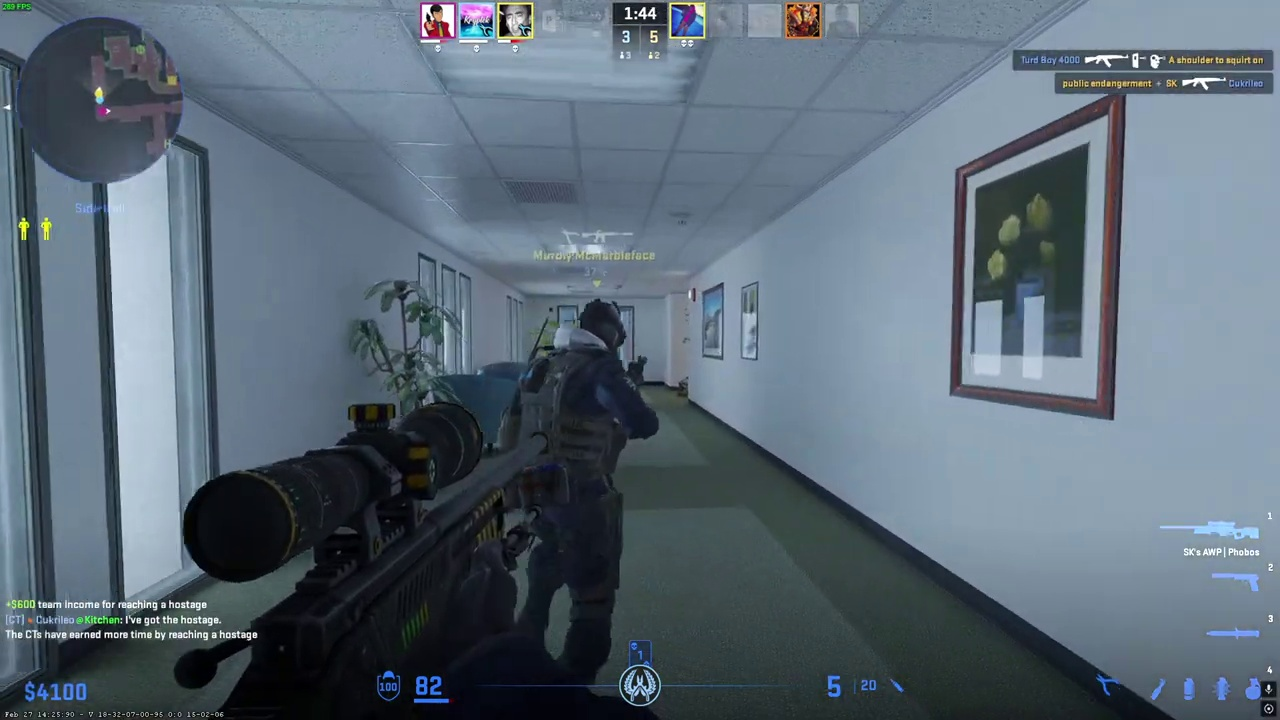CT: (497, 298, 657, 677)
